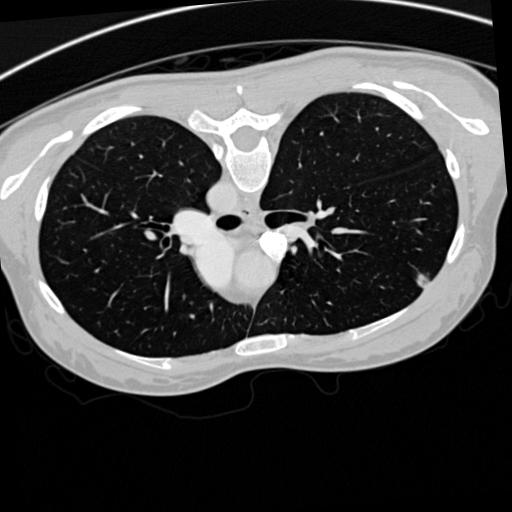nodule: (416, 273, 434, 291)
